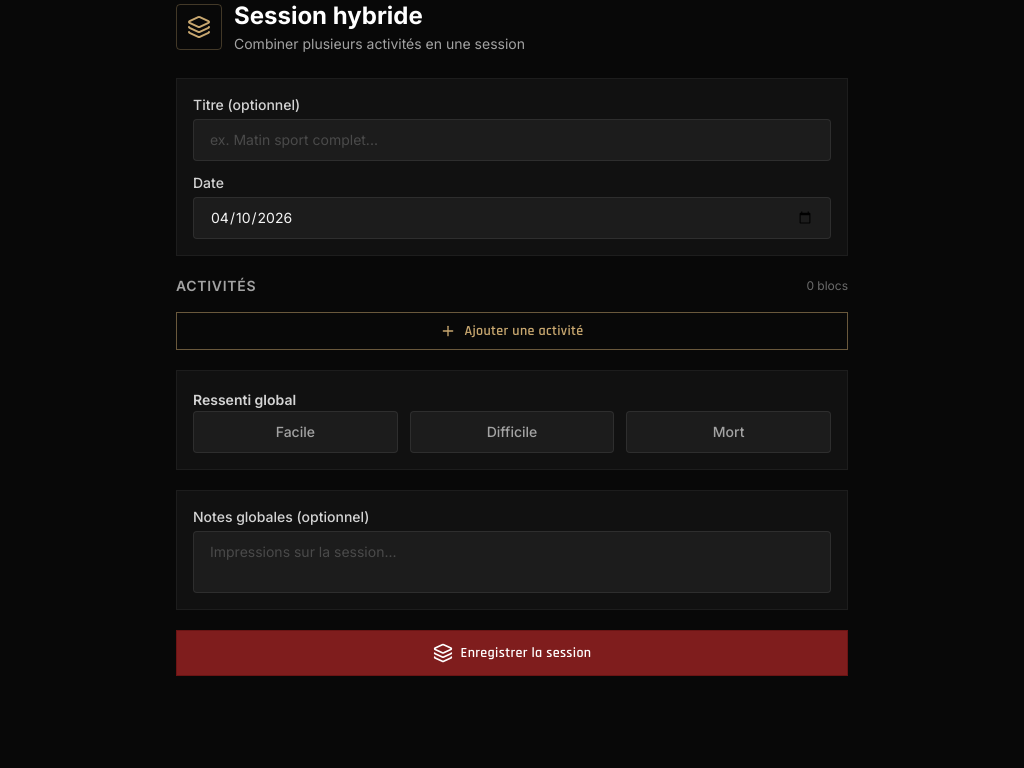
Test case: HybridSessionPage › Ajout de blocs via la modal › ouvre la modal de sélection au clic sur "Ajouter une activité"
The image size is (1024, 768).
Click the button "Ajouter une activité": (512, 331) x1=176 y1=312 x2=848 y2=350
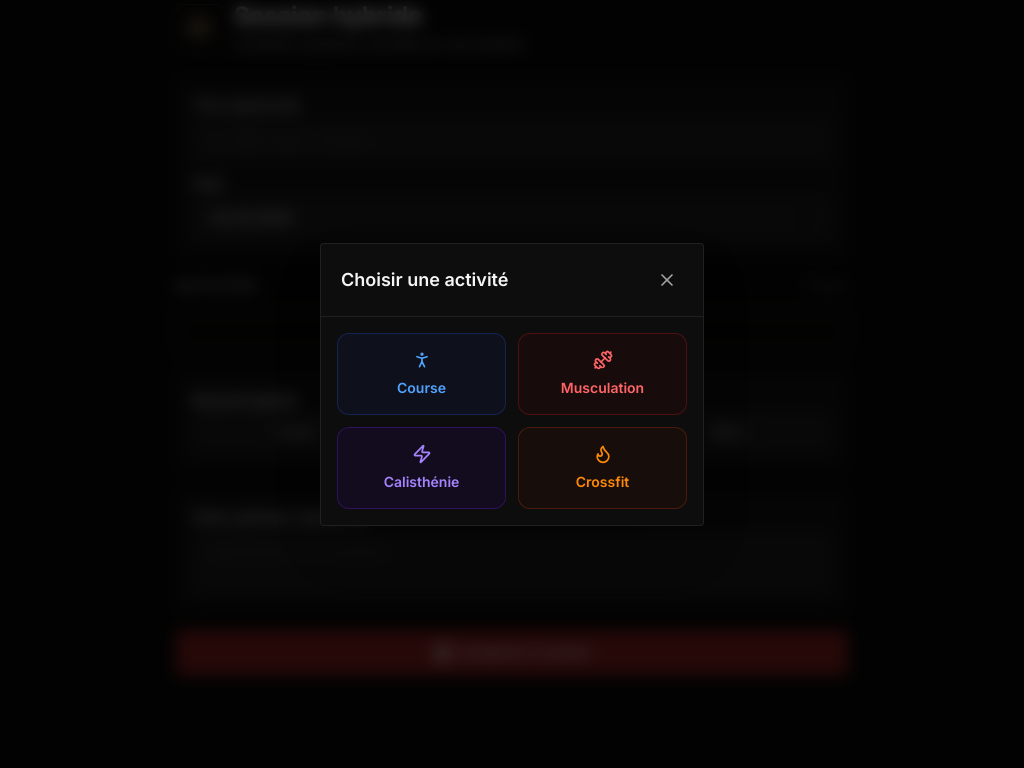
Now the heading "Choisir une activité" is shown, box x1=341 y1=266 x2=508 y2=294
